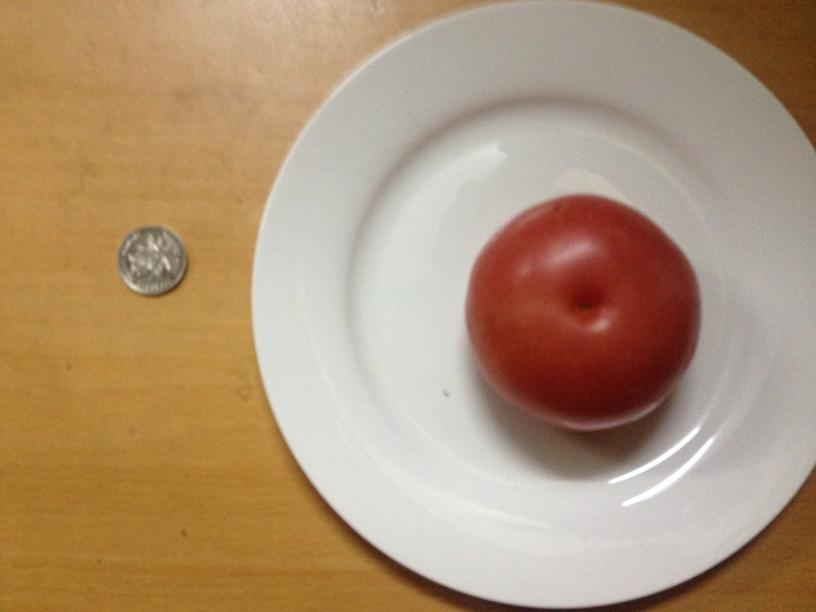coin: (116, 224, 186, 297)
tomato: (460, 200, 697, 428)
